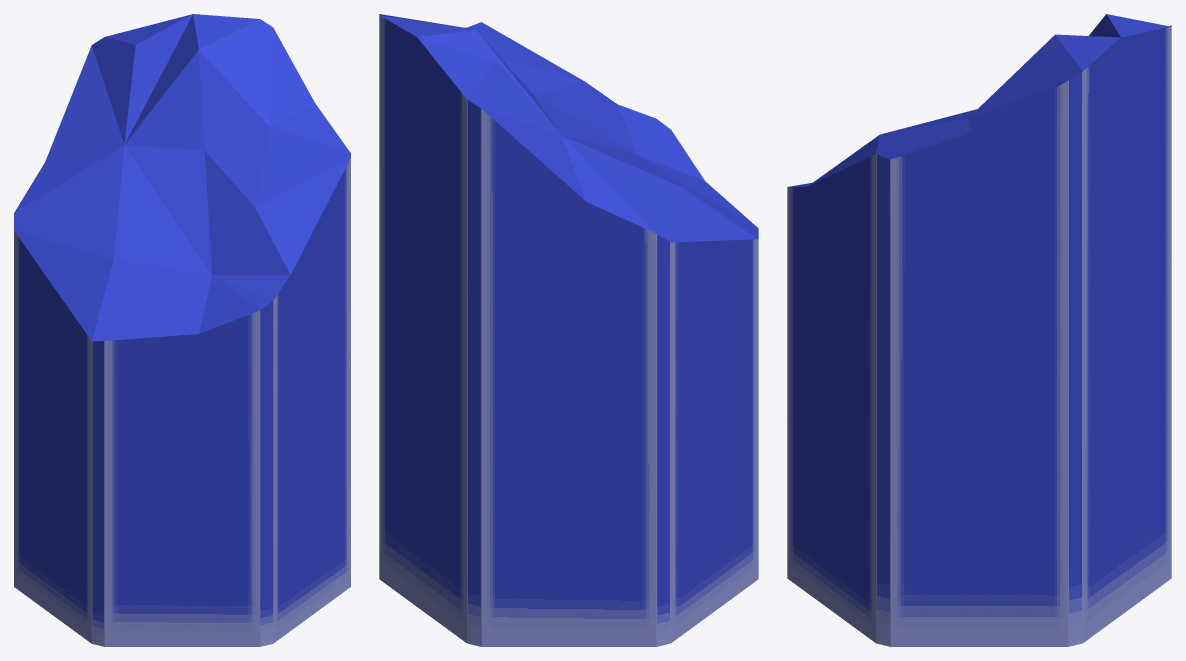
File: brokenCrystalBase.fbx
3 views of the same model, side by side, from view 1: azimuth 30°, elevation 25°; view 2: azimuth 150°, elevation 25°; view 3: azimuth 270°, elevation 25° (orthographic). The views are drawn at different scales.
Visible parts, largest first — view 1: Cube_001; view 2: Cube_001; view 3: Cube_001.
Boxes of the visible parts, left/top/right/bottom form: Cube_001: left=14, top=14, right=350, bottom=646; Cube_001: left=379, top=14, right=758, bottom=646; Cube_001: left=787, top=14, right=1171, bottom=646.
Size of the model in its own units: 1.73 by 3.23 by 1.95.
